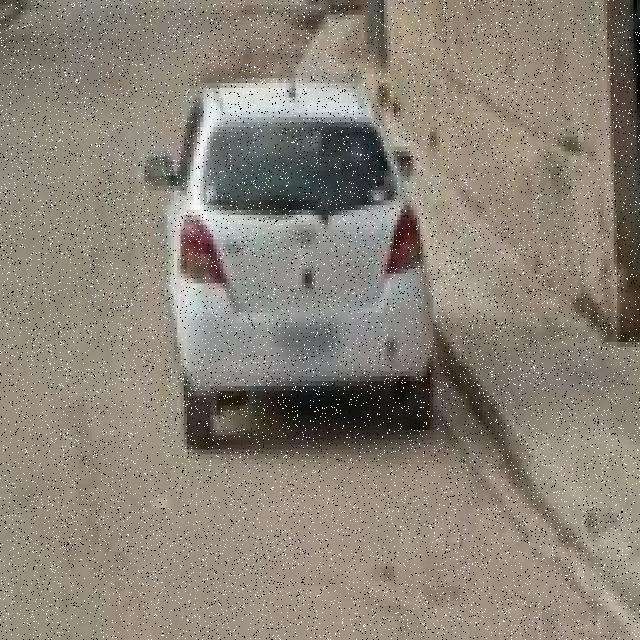cars: (153, 83, 439, 443)
